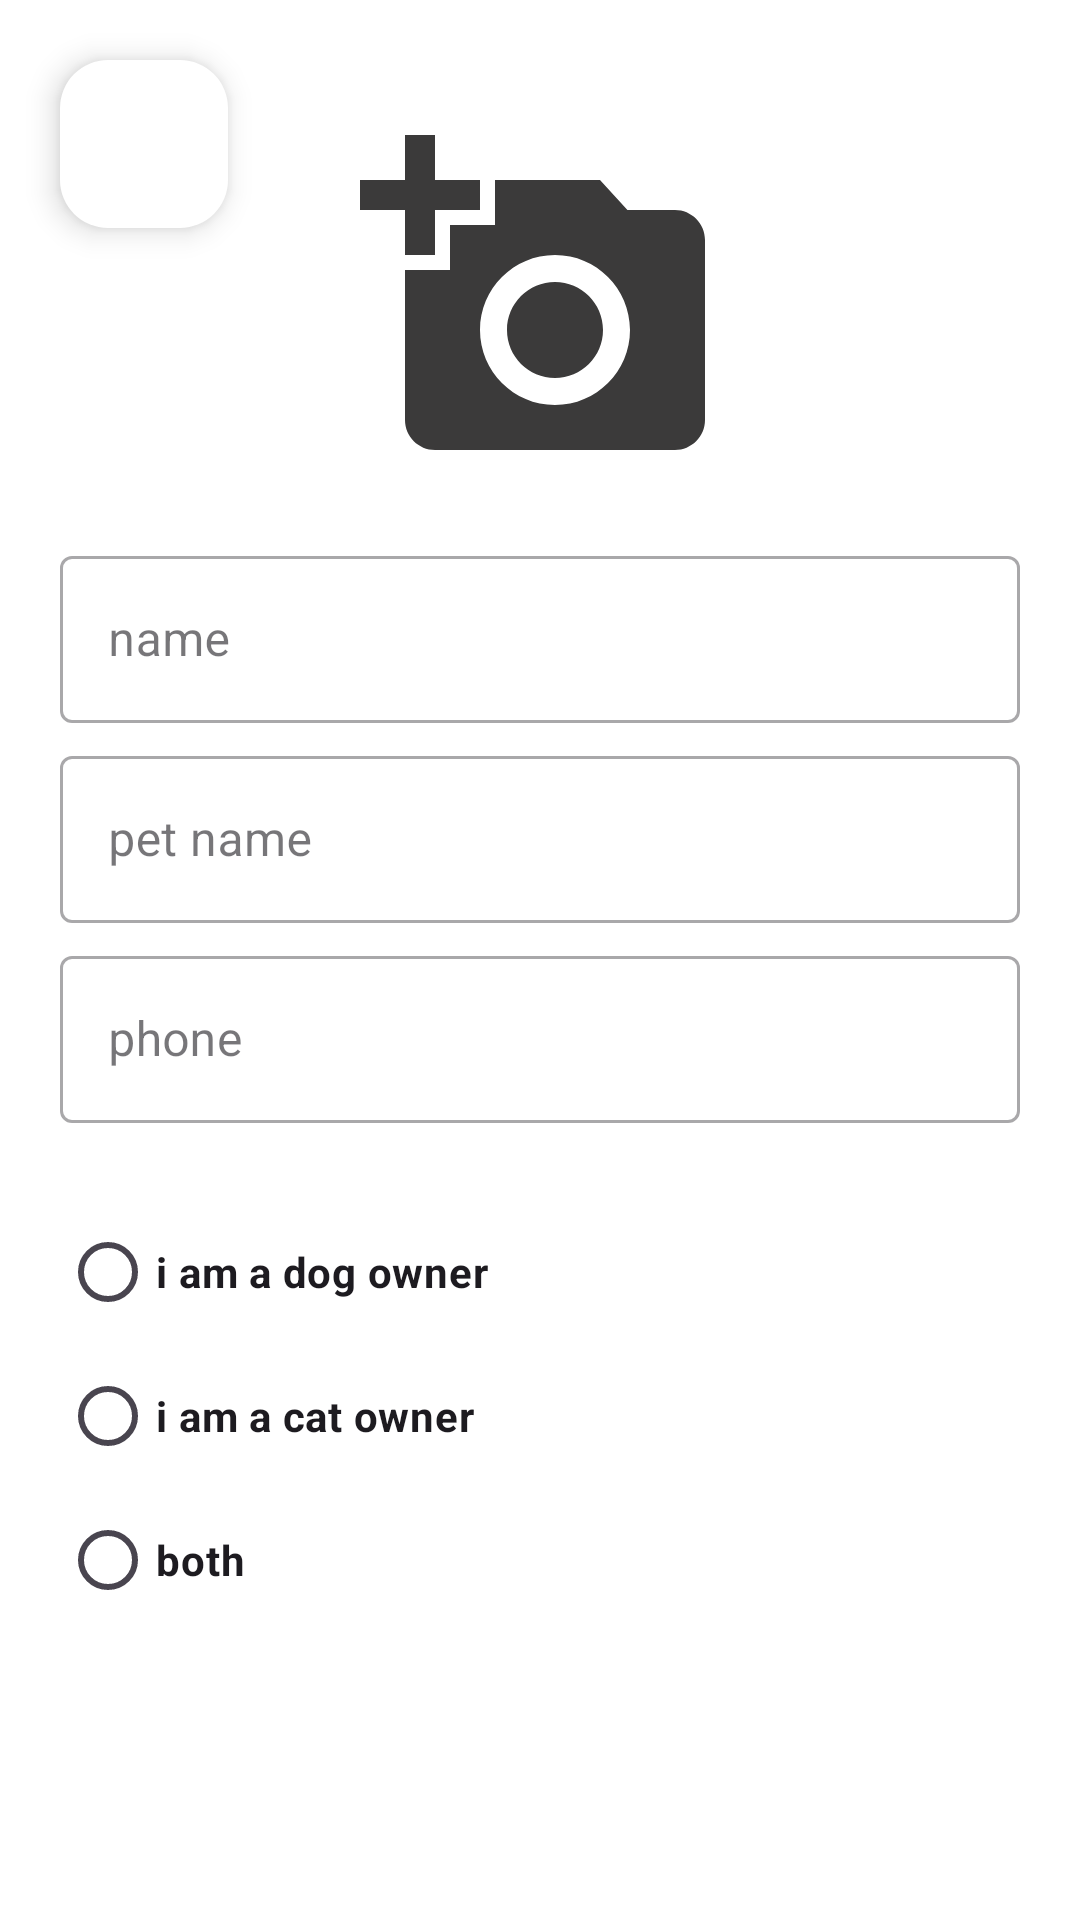

Where to tap for icons on this 1080 × 1920 app screen, as point (x, y):
add photo: point (532, 292)
